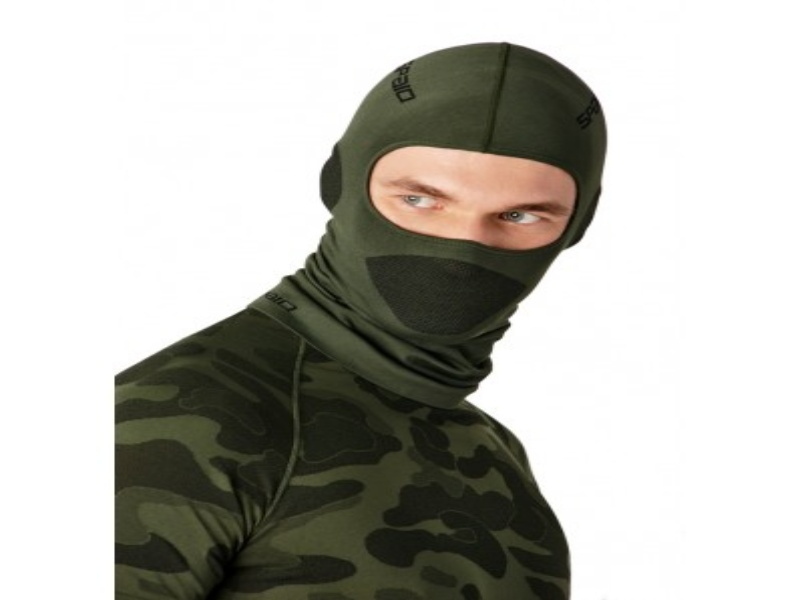balaclava: (283, 44, 608, 353)
person: (113, 41, 606, 600)
